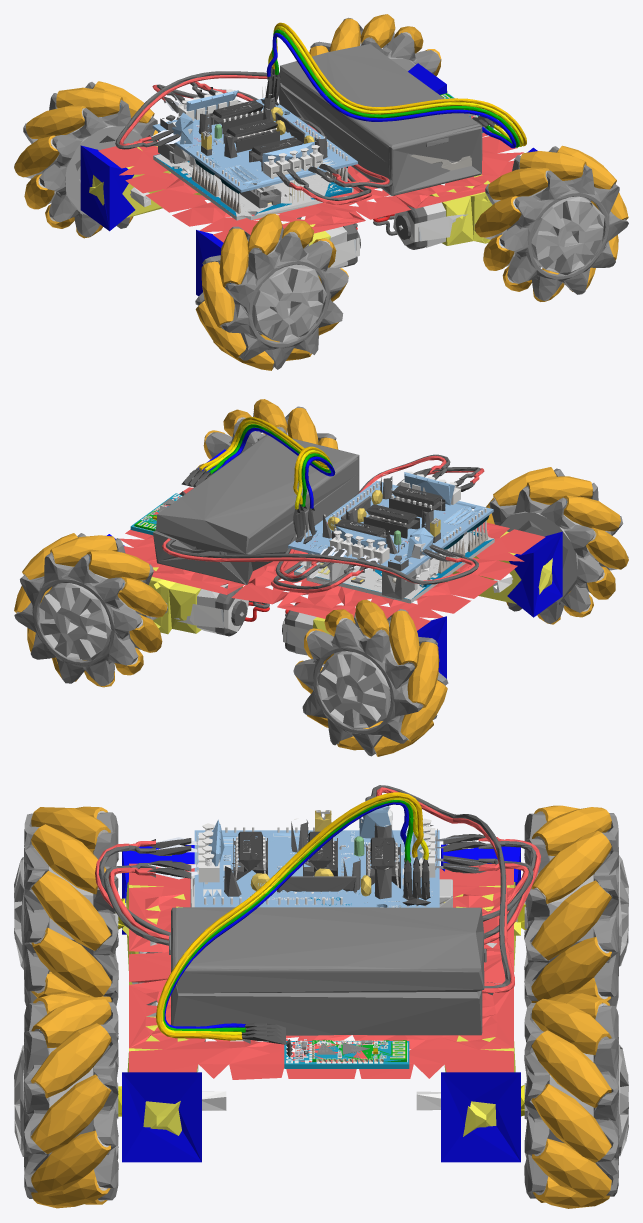
File: mecanum-web.glb
3 renders of one model, top to bottom at view 1: azimuth 30°, elevation 25°; view 2: azimuth 150°, elevation 25°; view 3: azimuth 270°, elevation 25°, orthographic. The views are drawn at different scales.
Parts seen in each view (by area): view 1: Opaque(232,113,8), Opaque(76,76,76), Opaque(64,64,64), Opaque(127,127,127), ABS(흰색), Opaque(89,149,218), ABS(흰색)_(1)_(1), Opaque(192,192,192), Opaque(255,250,27), 고무_-_연질_2, 고무_-_연질_(1)_1, 고무_-_연질_(1)_(1)_(1)_(1)_(1) (+15 smaller); view 2: Opaque(232,113,8), Opaque(76,76,76), Opaque(64,64,64), Opaque(127,127,127), ABS(흰색), Opaque(89,149,218), ABS(흰색)_(1)_(1), 고무_-_연질_2, Opaque(255,250,27), 고무_-_연질_(1)_1, Opaque(192,192,192), Opaque(26,26,26) (+15 smaller); view 3: Opaque(232,113,8), Opaque(64,64,64), Opaque(76,76,76), ABS(흰색), ABS(흰색)_(1)_(1), Opaque(89,149,218), Opaque(127,127,127), 고무_-_연질_2, Opaque(26,26,26), 고무_-_연질_(1)_1, Opaque(255,250,27), 고무_-_연질_(1)_(1) (+14 smaller).
Part boxes in pixels (box(x1,y1,x2,y2)): Opaque(232,113,8): box(14, 14, 628, 370); Opaque(76,76,76): box(14, 17, 628, 369); Opaque(64,64,64): box(279, 44, 482, 195); Opaque(127,127,127): box(42, 42, 604, 342); ABS(흰색): box(98, 116, 523, 242); Opaque(89,149,218): box(152, 90, 357, 192); ABS(흰색)_(1)_(1): box(80, 63, 537, 296); Opaque(192,192,192): box(153, 141, 353, 220); Opaque(255,250,27): box(89, 146, 492, 276); 고무_-_연질_2: box(115, 71, 392, 219); 고무_-_연질_(1)_1: box(119, 75, 389, 204); 고무_-_연질_(1)_(1)_(1)_(1)_(1): box(266, 33, 516, 148); Opaque(232,113,8): box(14, 399, 628, 756); Opaque(76,76,76): box(14, 406, 628, 756); Opaque(64,64,64): box(153, 434, 359, 584); Opaque(127,127,127): box(39, 431, 598, 729); ABS(흰색): box(119, 487, 545, 630); Opaque(89,149,218): box(288, 472, 493, 574); ABS(흰색)_(1)_(1): box(107, 449, 562, 678); 고무_-_연질_2: box(166, 454, 480, 589); Opaque(255,250,27): box(149, 531, 552, 645); 고무_-_연질_(1)_1: box(162, 455, 484, 605); Opaque(192,192,192): box(294, 530, 494, 603); Opaque(26,26,26): box(180, 468, 475, 572); Opaque(232,113,8): box(31, 805, 611, 1208); Opaque(64,64,64): box(169, 907, 486, 1035); Opaque(76,76,76): box(23, 812, 619, 1200); ABS(흰색): box(129, 857, 513, 1079); ABS(흰색)_(1)_(1): box(122, 844, 520, 1162); Opaque(89,149,218): box(194, 806, 439, 907); Opaque(127,127,127): box(14, 855, 628, 1156); 고무_-_연질_2: box(98, 785, 536, 1041); Opaque(26,26,26): box(147, 805, 486, 1057); 고무_-_연질_(1)_1: box(95, 787, 540, 993); Opaque(255,250,27): box(122, 880, 520, 1136); 고무_-_연질_(1)_(1): box(156, 792, 423, 1040).
Bounding box in the file's own units: 2 × 1.02 × 1.86.
